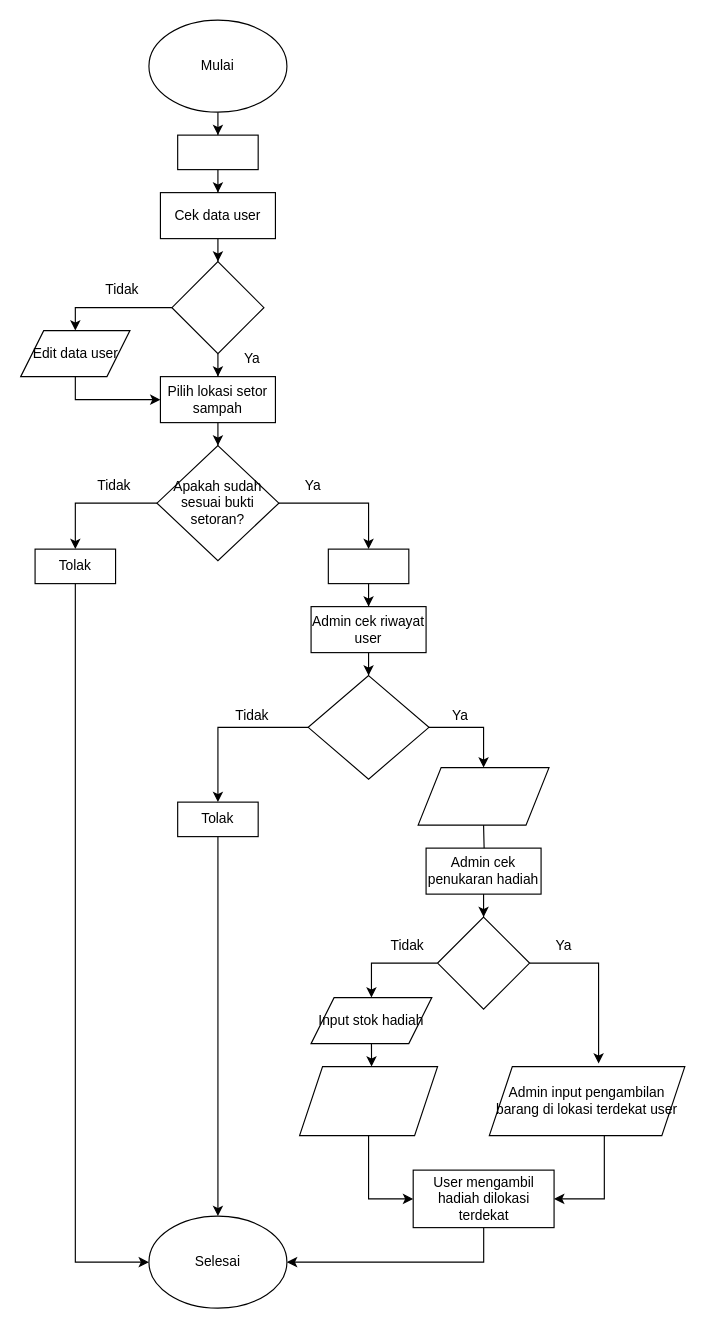
Image size: 705x1328. Some labels were removed from this diagram. The shapes that lost their labels are listed below. From the top down, each one's centre as x and y in pixels, then its label:
At [217,152]: "Login".
At [217,307]: "Apakah data user valid?".
At [368,566]: "Terima".
At [368,726]: "Admin cek kategori jenis sampah".
At [483,795]: "Admin input status verifikasi user".
At [483,962]: "Apakah stok masih tersedia?".
At [368,1100]: "Admin memberitahukan stok hadiah sudah tersedia".
